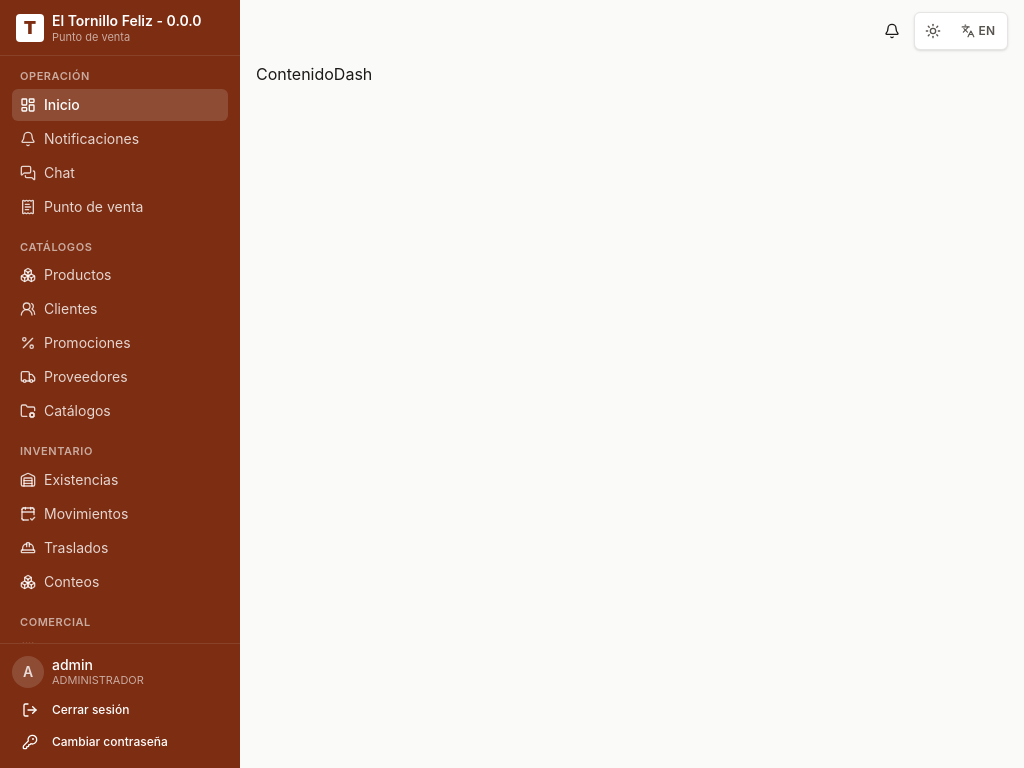
AppShell › cierra sesión aunque el backend falle (best-effort)
The image size is (1024, 768).
Click the button "Cerrar sesión".
click(120, 710)  # box [12,696,228,724]
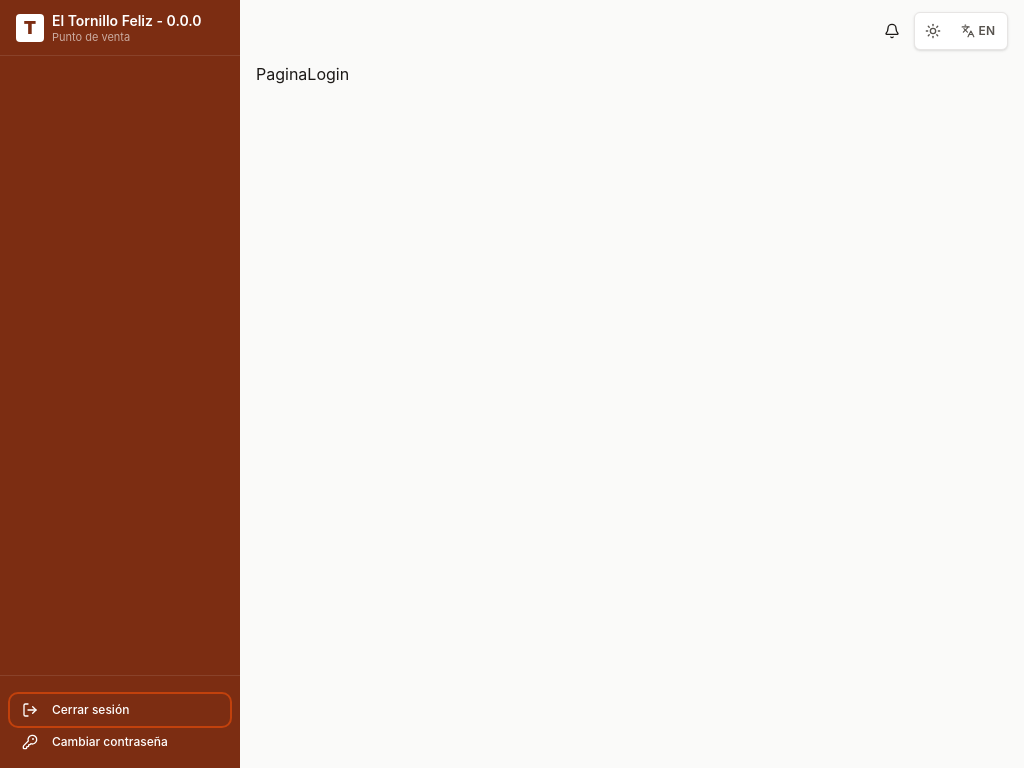
expect the text "PaginaLogin" is shown: met, box [256,64,349,84]
